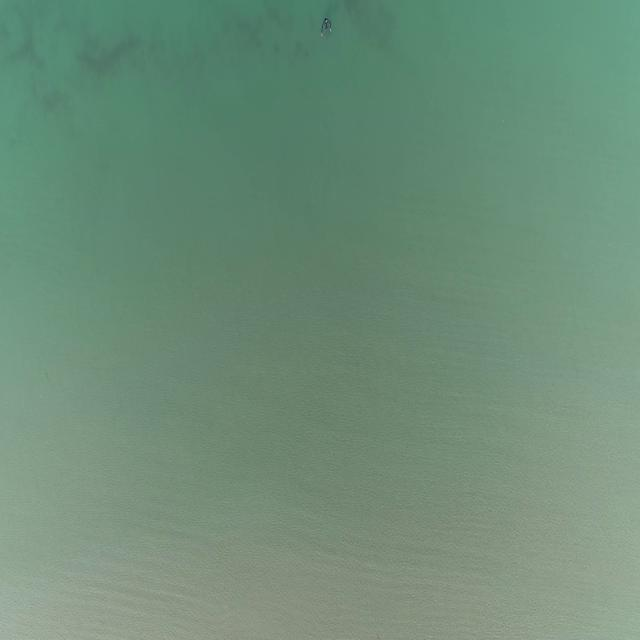person: (321, 16, 333, 37)
